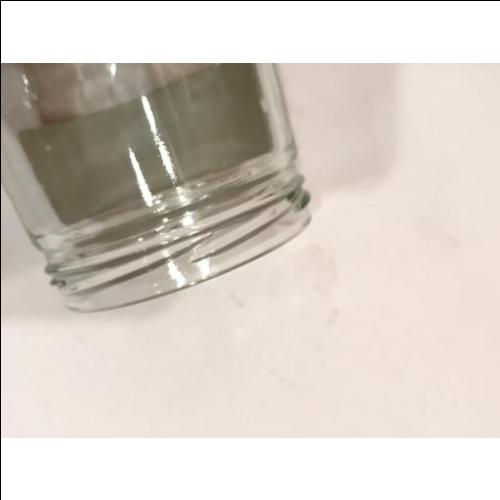glass: (4, 64, 307, 312)
